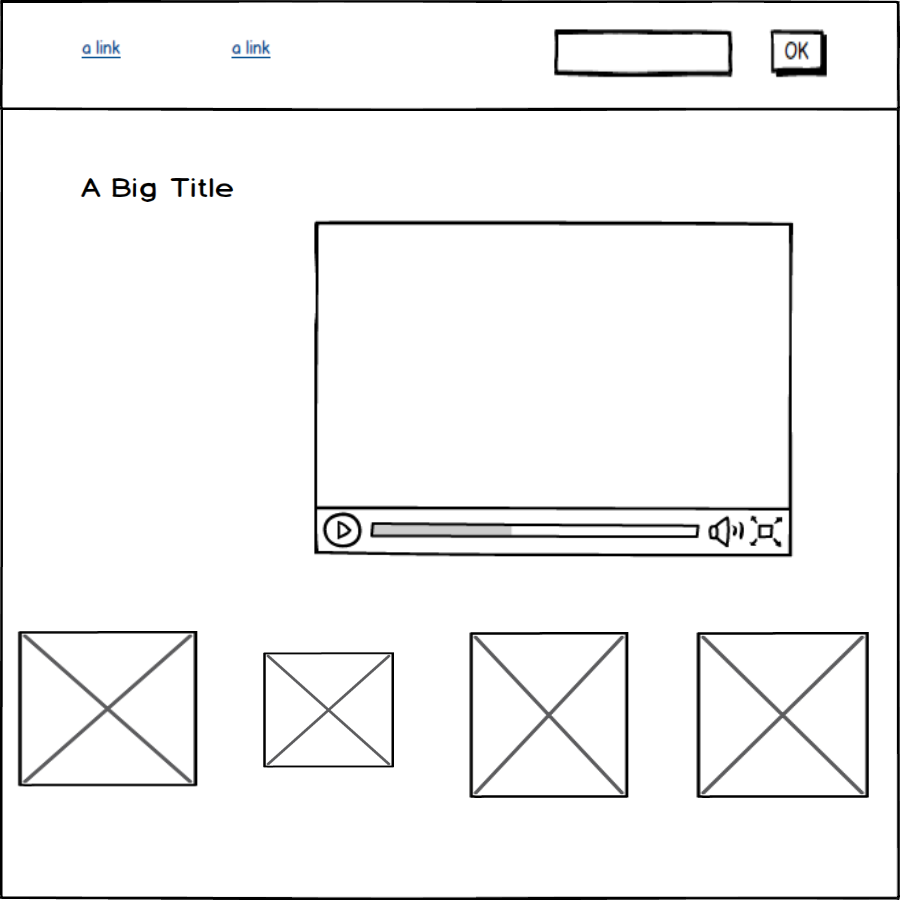button: (764, 25, 835, 80)
h1: (70, 166, 241, 206)
image: (12, 623, 204, 791), (694, 626, 875, 801), (465, 626, 634, 803), (260, 648, 397, 771)
input: (548, 22, 739, 82)
navlink: (75, 28, 131, 63), (228, 29, 279, 64)
video: (309, 211, 801, 563)
